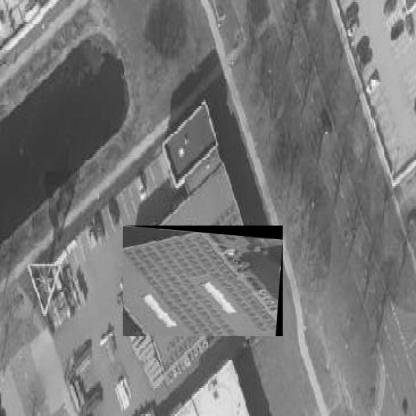solar-pv-panel: (124, 231, 278, 336)
